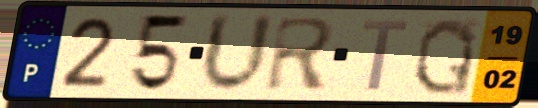2: (61, 15, 119, 89)
5: (129, 11, 190, 94)
Q: (409, 15, 480, 98)
R: (262, 15, 339, 94)
T: (358, 17, 413, 93)
U: (197, 11, 278, 97)
